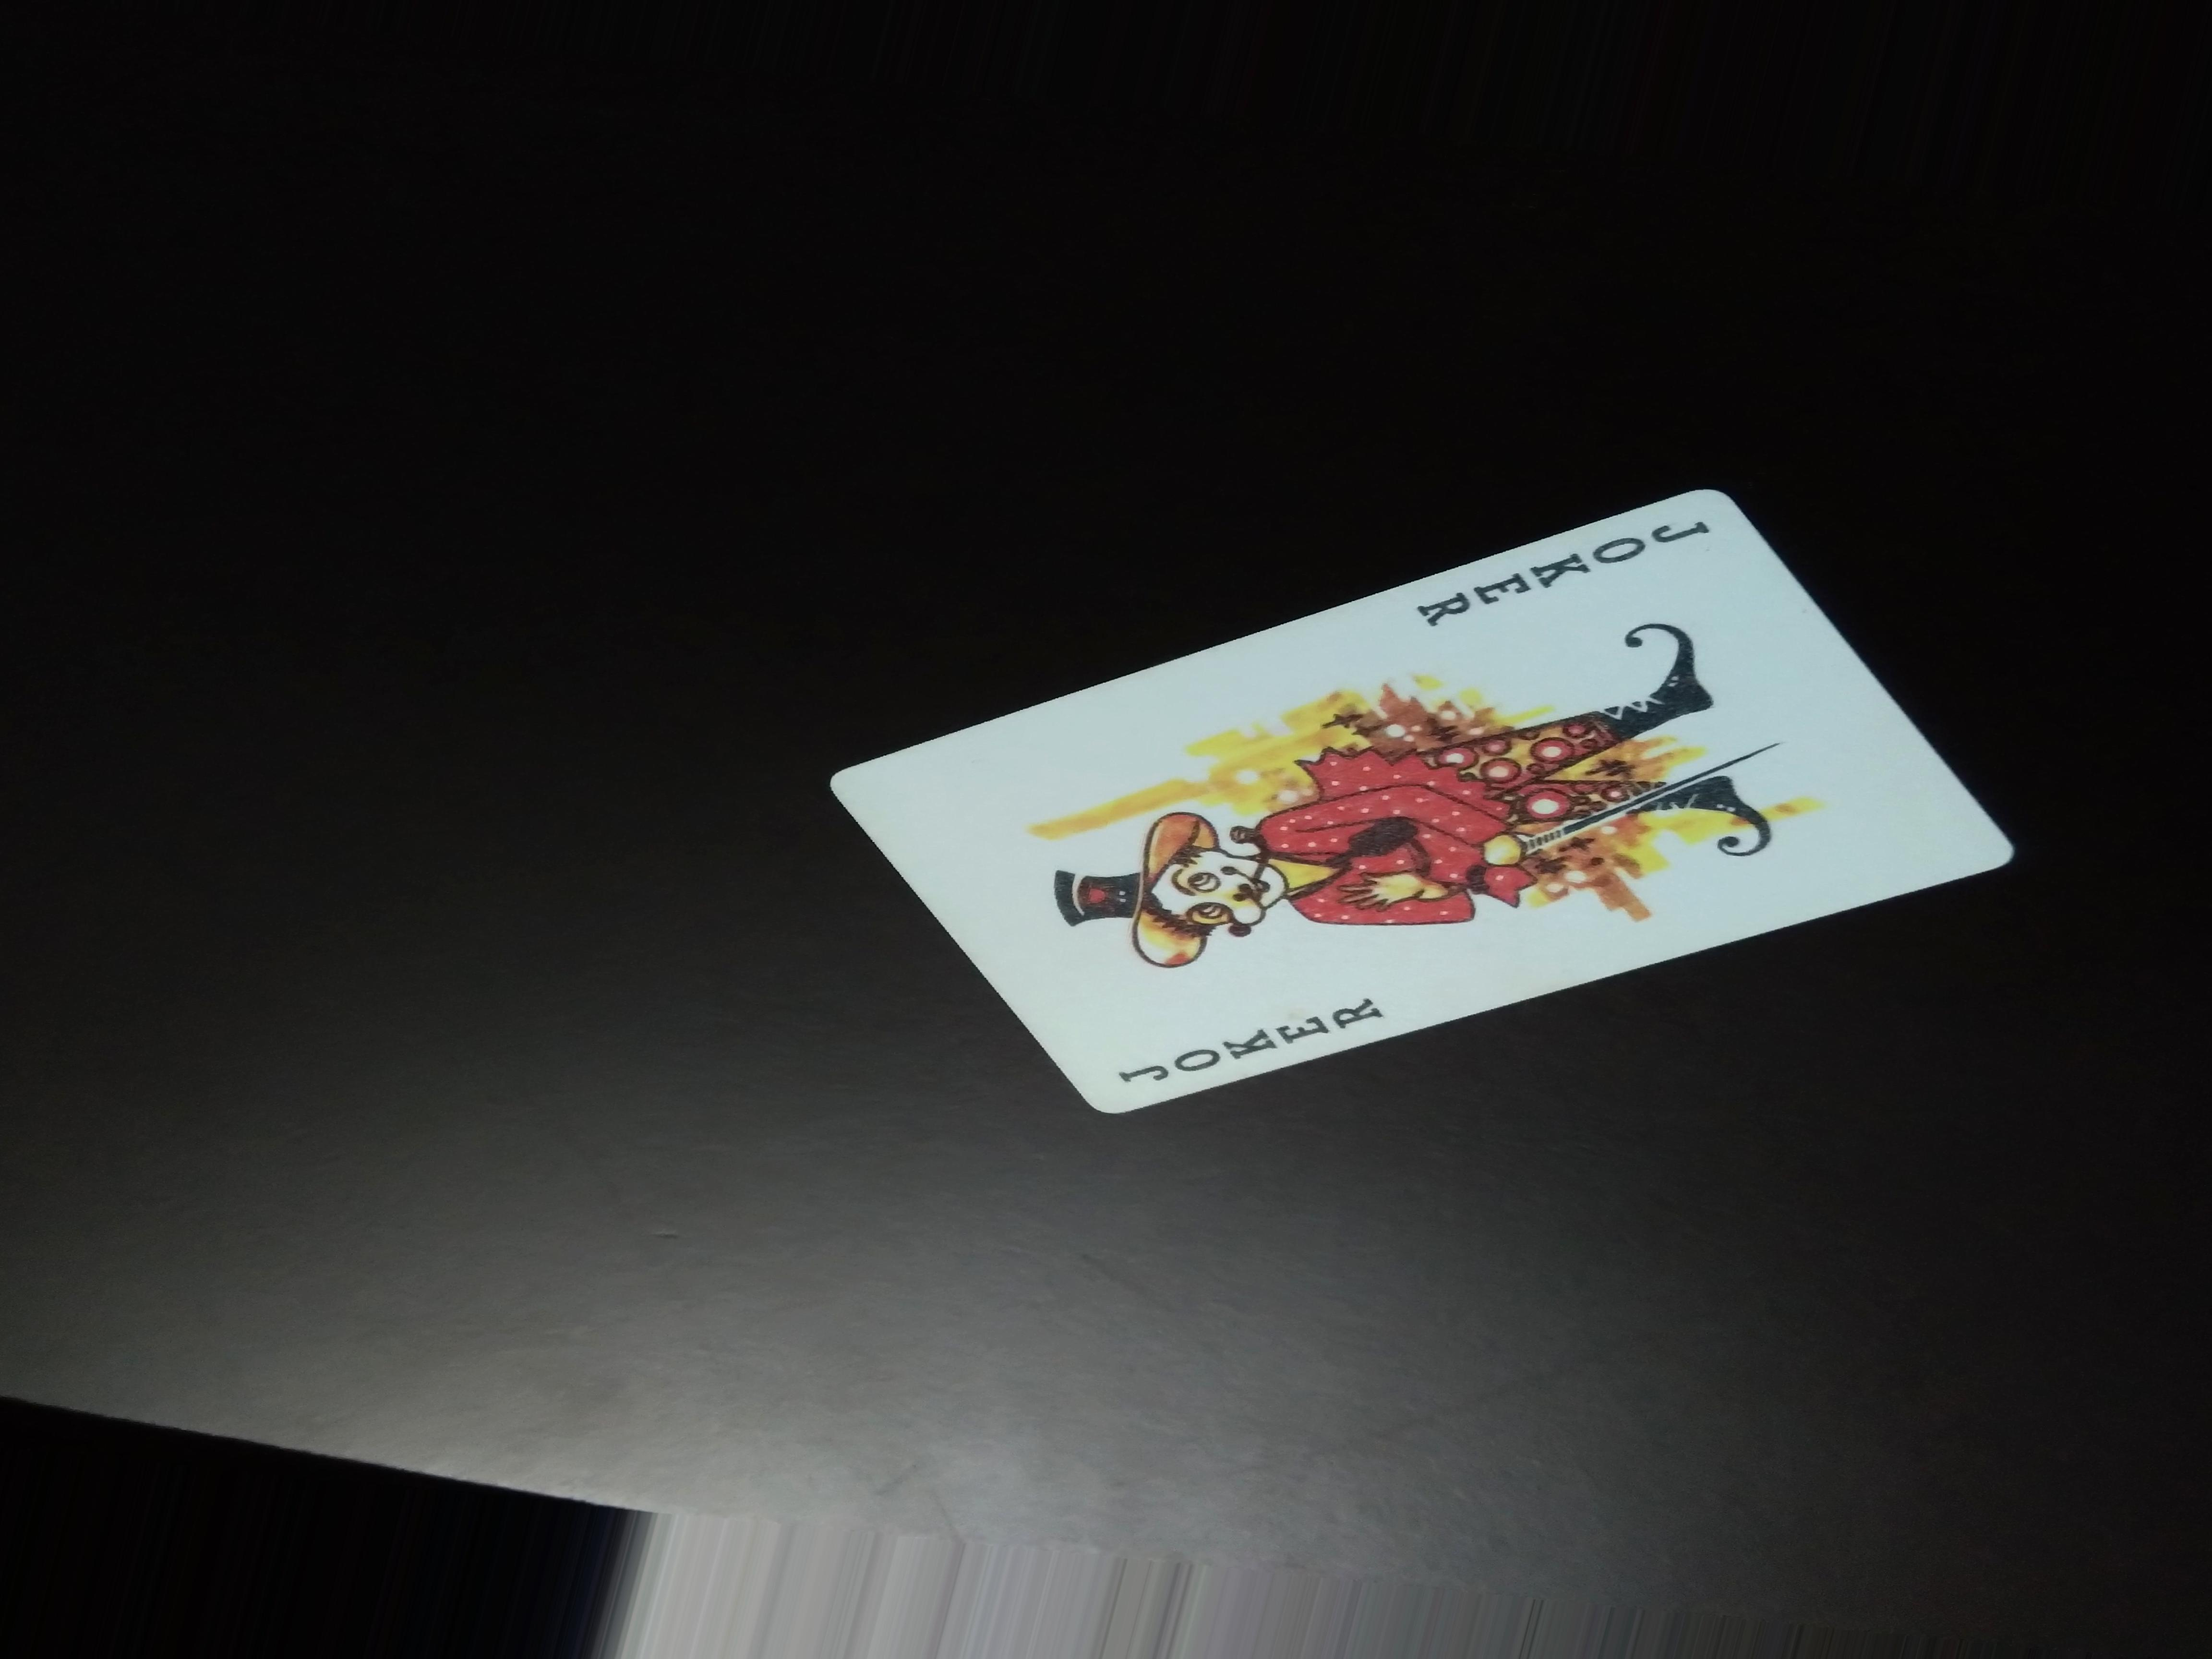JOKER: (1104, 983, 1406, 1107)
